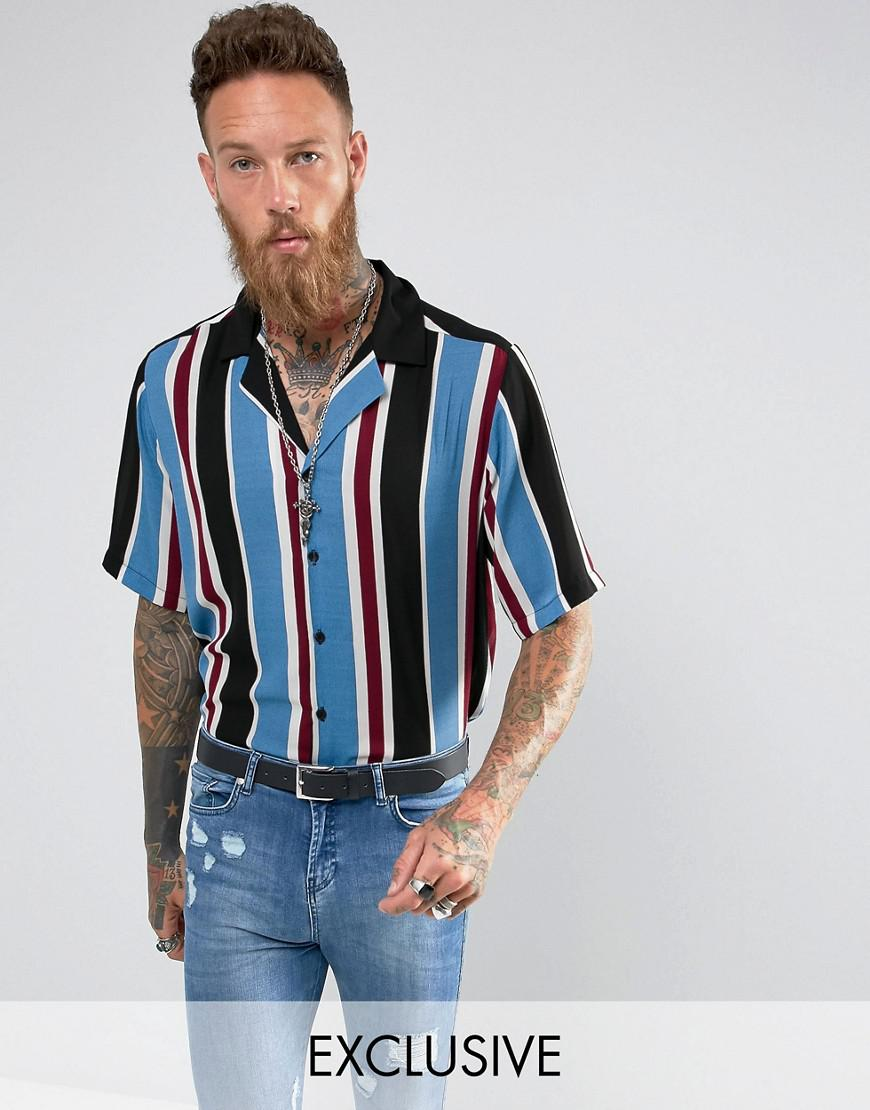teeshirt: (96, 262, 601, 820)
